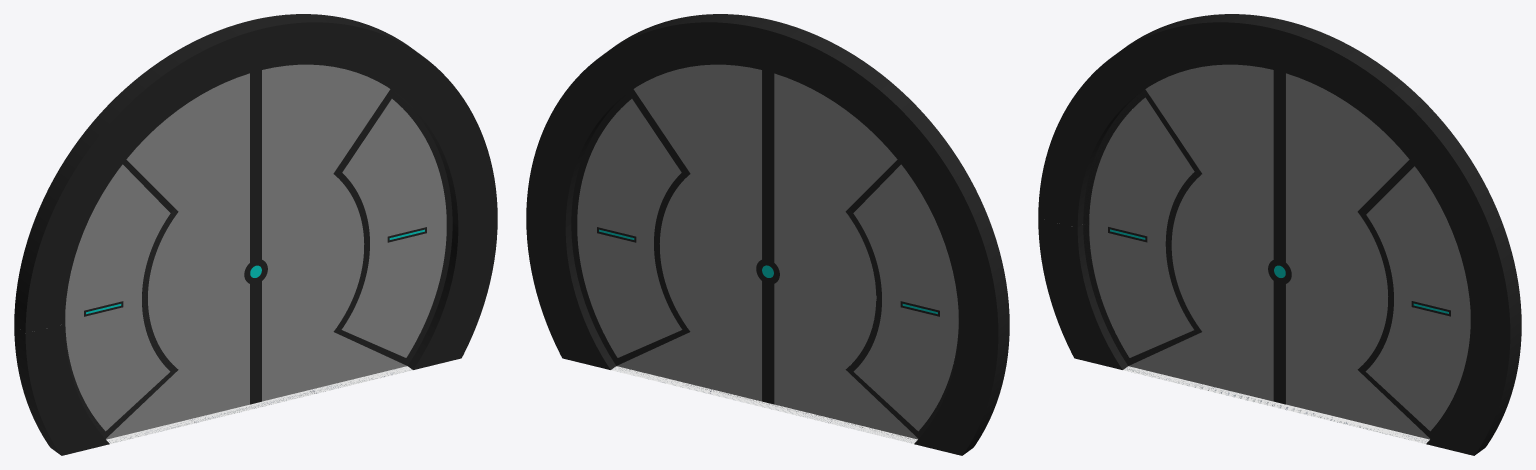
Rendered from Gate.dae.
3 renders of one model, left to right at view 1: azimuth 30°, elevation 25°; view 2: azimuth 150°, elevation 25°; view 3: azimuth 330°, elevation 25°, orthographic.
Visible parts, largest first — view 1: group_0 (×9); view 2: group_0 (×9); view 3: group_0 (×10).
Boxes of the visible parts, box(x1,y1,x2,y2) form: group_0 (×9): box(14, 14, 497, 455); group_0 (×9): box(526, 14, 1009, 455); group_0 (×10): box(1038, 14, 1521, 455).
Bounding box in the file's own units: 94.49 × 3.94 × 72.33.
6 materials, 1 textured.
